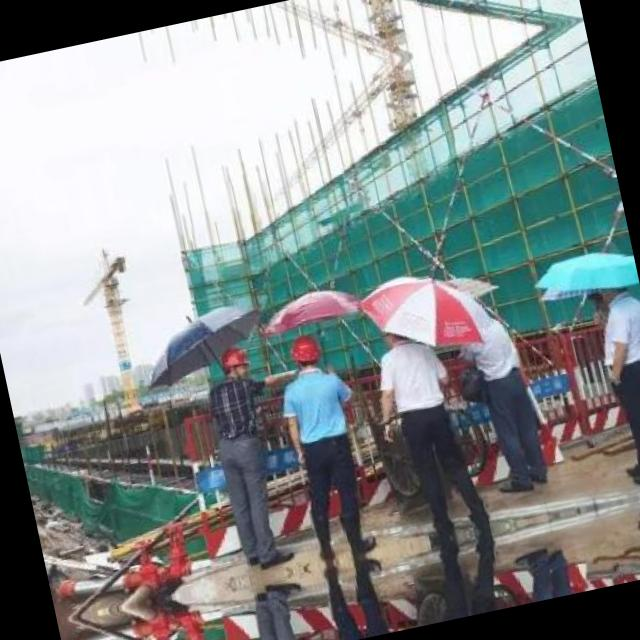helmet: (284, 328, 328, 374), (211, 341, 252, 384)
